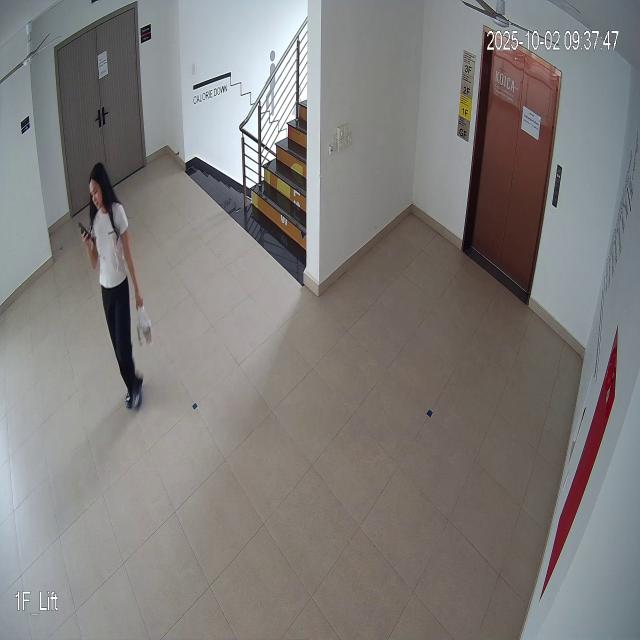face: (87, 160, 114, 214)
